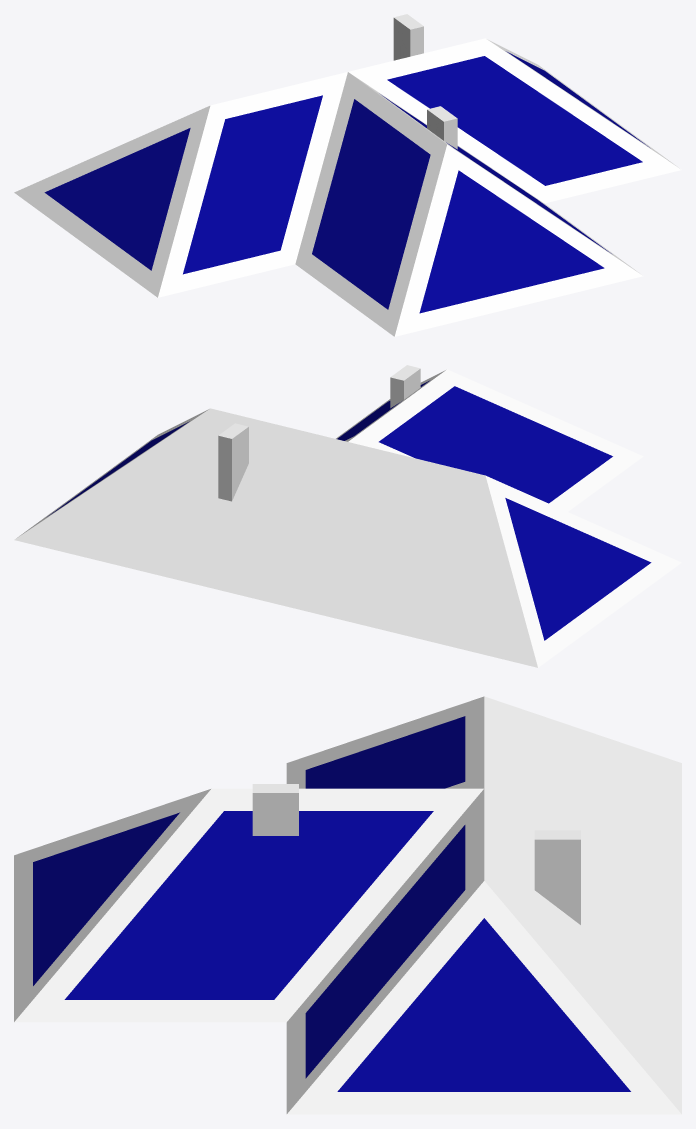
The model's file is Roof6.dae.
The picture shows the model from 3 angles, top to bottom: view 1: azimuth 30°, elevation 25°; view 2: azimuth 150°, elevation 25°; view 3: azimuth 270°, elevation 25°; orthographic projection. The views are drawn at different scales.
Parts seen in each view (by area): view 1: SketchUp (×10); view 2: SketchUp (×7); view 3: SketchUp (×8).
Part boxes in pixels (x1,y1,x2,y2): SketchUp (×10): [14, 14, 681, 336]; SketchUp (×7): [14, 365, 681, 667]; SketchUp (×8): [14, 696, 681, 1114].
Size of the model in its own units: 1201 by 965 by 259.
